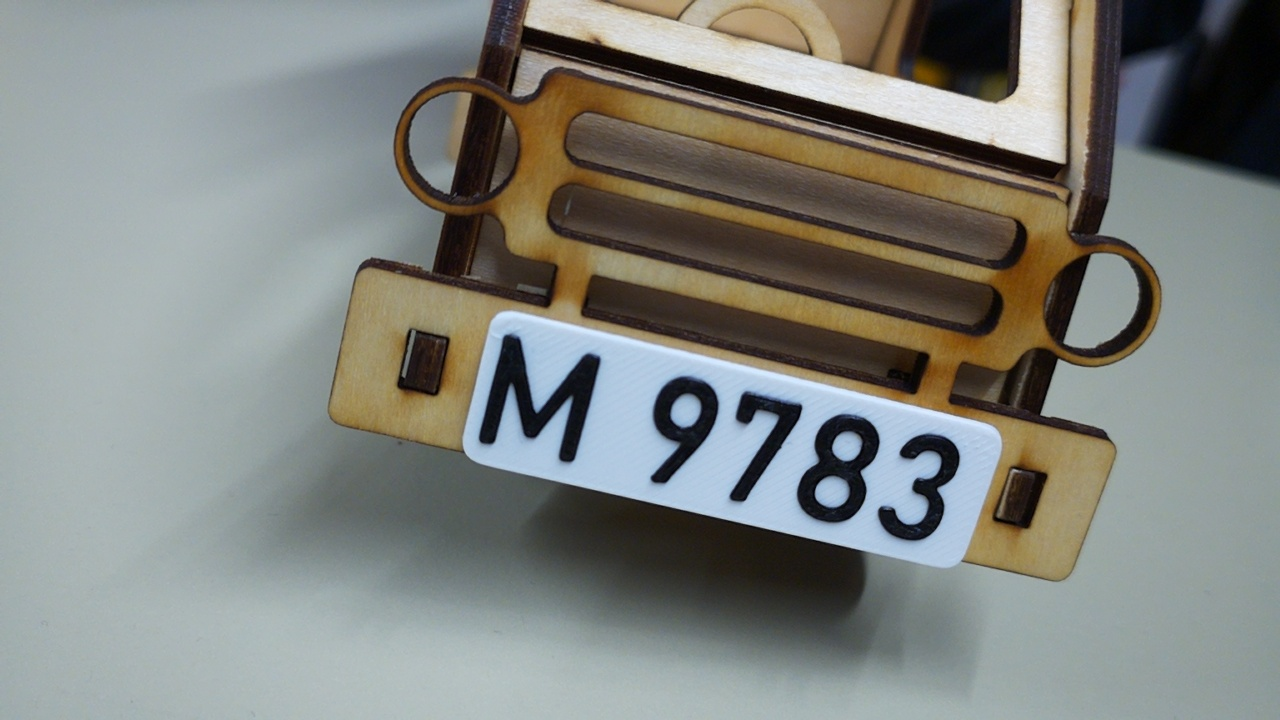license_plate: (460, 306, 1007, 573)
